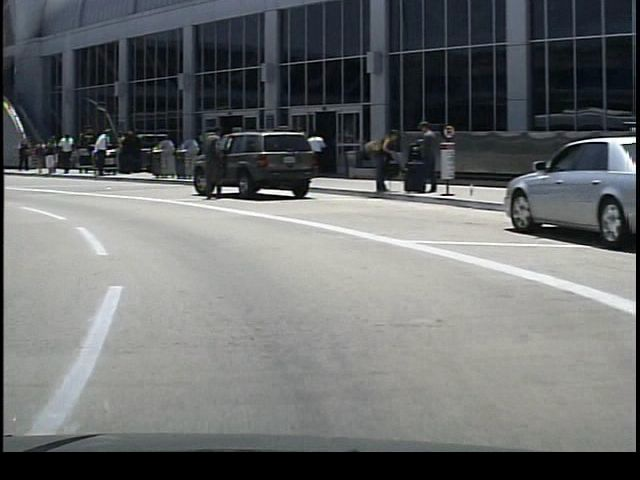person: (393, 115, 438, 195), (195, 115, 223, 205), (362, 122, 394, 197), (300, 121, 327, 185), (84, 125, 111, 178), (53, 129, 74, 178), (38, 132, 57, 180), (13, 137, 31, 175)
